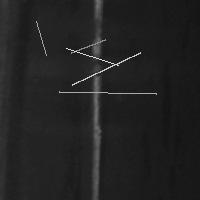scratches: (88, 1, 106, 200), (67, 47, 145, 89), (61, 43, 123, 70), (54, 87, 161, 99), (66, 35, 110, 58), (31, 16, 51, 60)
